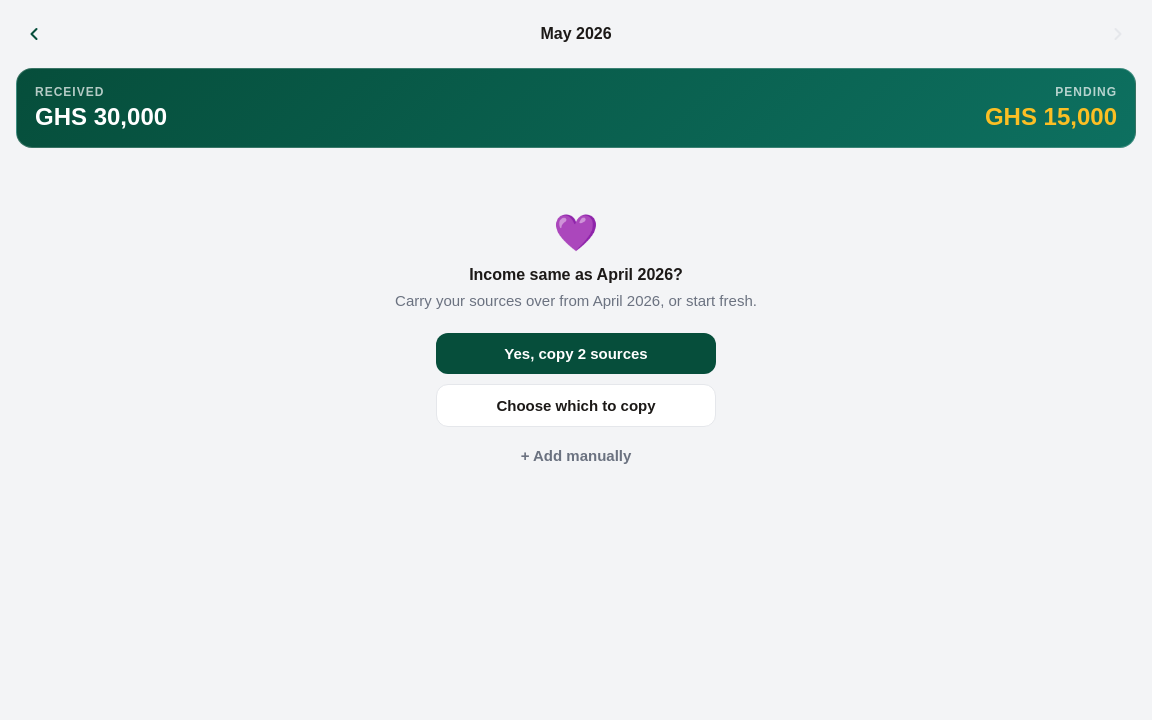
Test case: PaydayView › rollforward: tapping "Choose which to copy" opens the multi-select sheet
Click the button with test id "choose-which-btn".
click(576, 405)  # box [436,384,716,426]
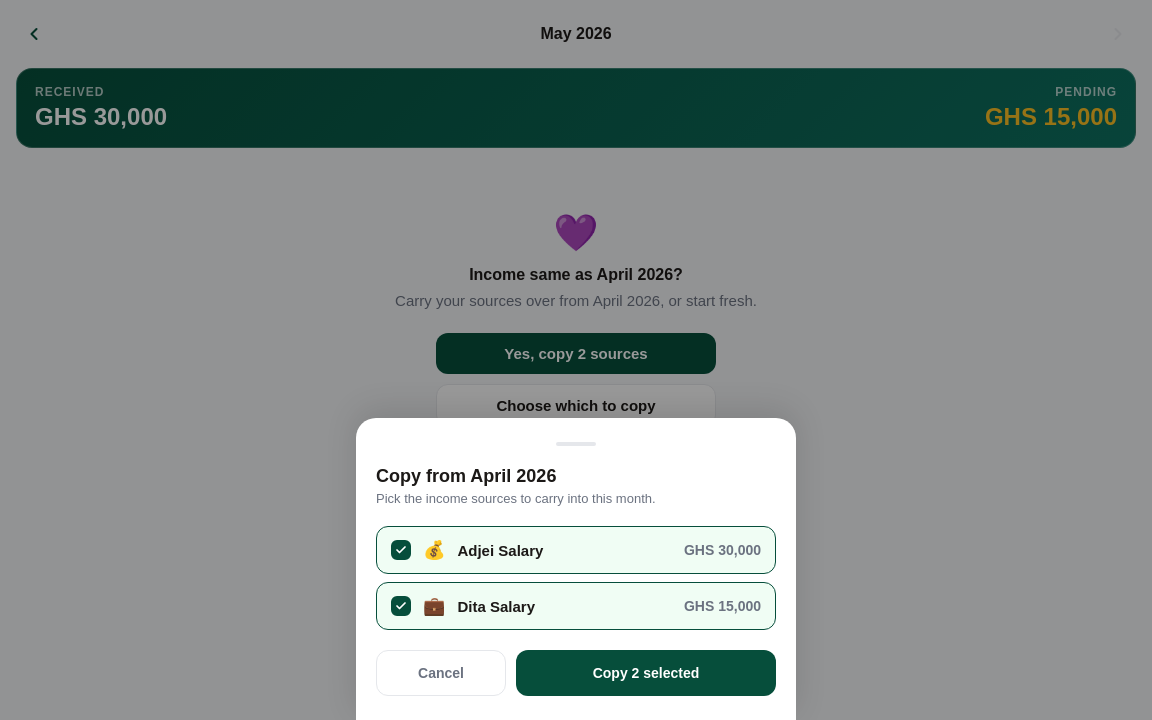
Now the dialog with test id "copy-income-sheet" is shown, box [356,418,796,719]
